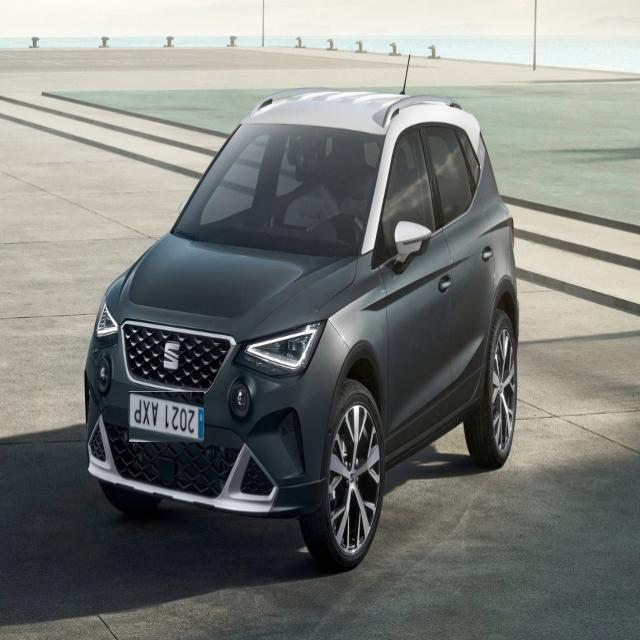License-Plate: (128, 391, 204, 442)
